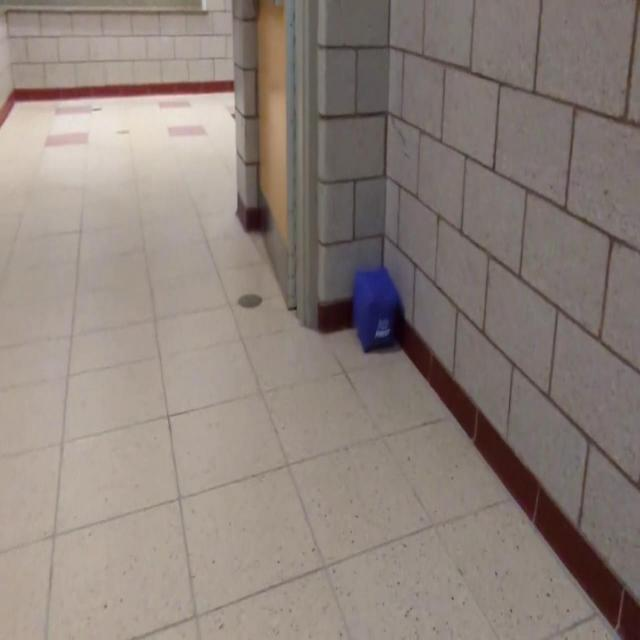frc_cube: (351, 271, 401, 357)
